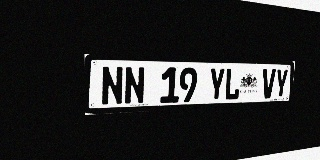1: (160, 67, 179, 103)
9: (179, 67, 198, 102)
L: (224, 68, 240, 100)
N: (101, 66, 123, 106), (124, 66, 145, 105)
V: (261, 69, 276, 99)
Y: (208, 68, 225, 101), (274, 69, 288, 98)
